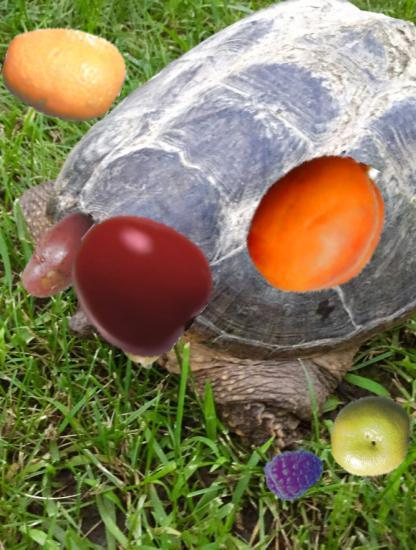Apricot: (243, 150, 393, 300)
Cactus: (114, 309, 175, 370)
Kumquats: (3, 11, 125, 133)
Pomelo: (329, 394, 413, 478)
Potato: (10, 205, 113, 308)
Raspberry: (263, 442, 324, 503)
Tomato: (67, 211, 208, 352)
